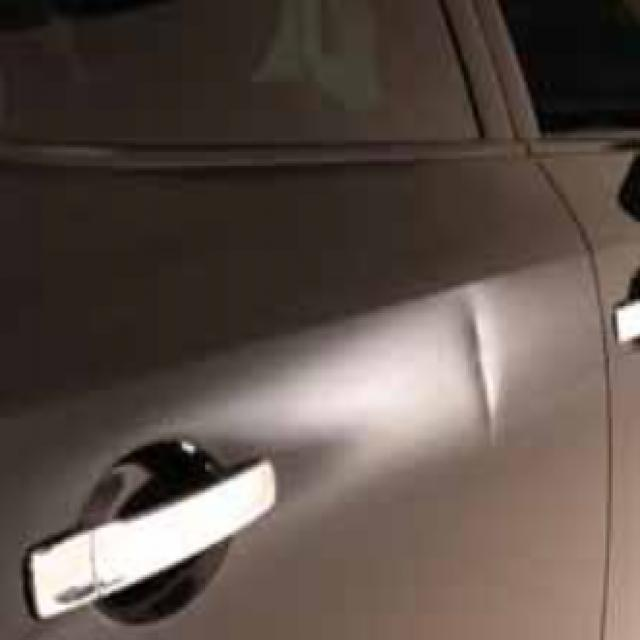dents: (447, 294, 517, 460)
